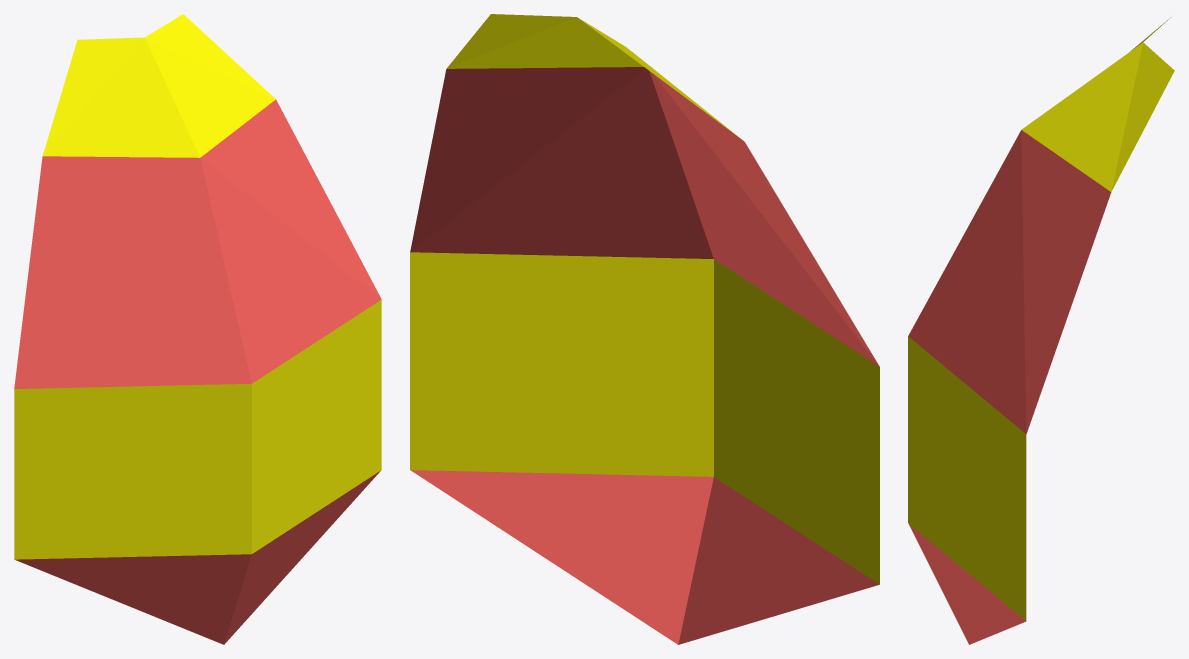
File: EggDebris.obj
3 views of the same model, side by side, from view 1: azimuth 30°, elevation 25°; view 2: azimuth 150°, elevation 25°; view 3: azimuth 270°, elevation 25° (orthographic). The views are drawn at different scales.
Visible parts, largest first — view 1: 立方体; view 2: 立方体; view 3: 立方体.
Part boxes in pixels (x1,y1,x2,y2): 立方体: [14, 14, 381, 644]; 立方体: [410, 14, 879, 644]; 立方体: [908, 17, 1174, 644].
Size of the model in its own units: 1.35 by 1.93 by 0.7728.
Materials: 1 (1 with a texture image).
